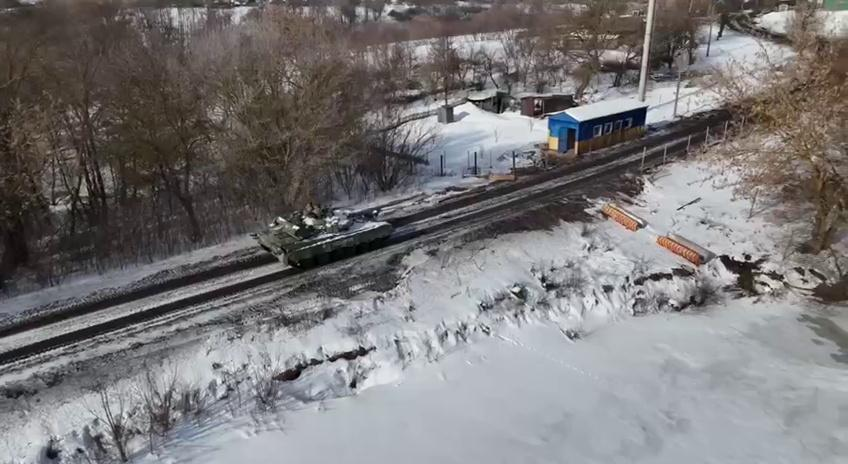tank: (254, 192, 421, 270)
